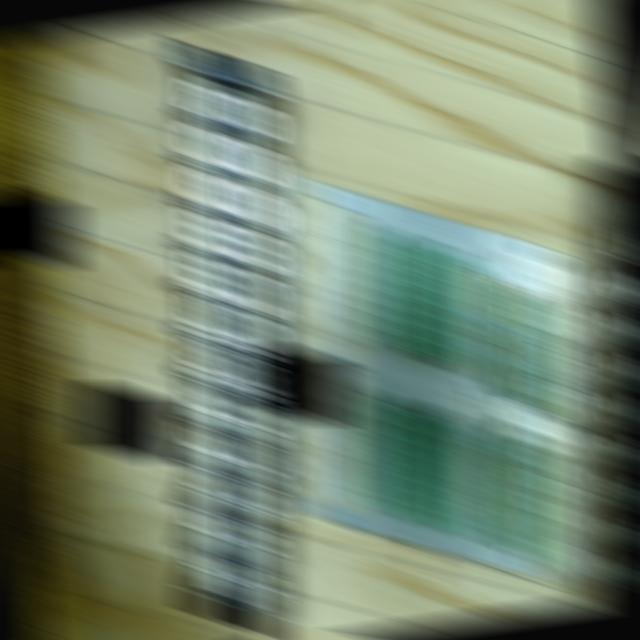Phillips_Block: (177, 41, 283, 639)
Terminal_1: (503, 437, 551, 561), (509, 290, 553, 412)
Terminal_2: (433, 420, 479, 538), (435, 252, 480, 369), (399, 411, 443, 528), (401, 242, 445, 358), (365, 400, 407, 517)
